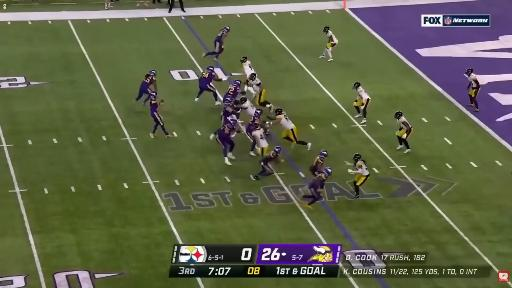Helmet: (323, 167, 333, 177), (148, 92, 158, 100), (319, 150, 328, 158), (354, 154, 363, 162), (465, 68, 474, 76), (254, 110, 264, 117), (230, 119, 238, 126), (254, 122, 261, 130), (274, 147, 281, 155), (395, 112, 403, 119), (353, 83, 362, 89), (250, 74, 257, 81), (240, 96, 247, 103), (241, 57, 249, 63), (276, 108, 284, 114), (323, 27, 330, 33), (234, 80, 241, 86), (150, 71, 157, 76), (207, 67, 215, 71), (224, 26, 230, 31)
Jersey: (149, 99, 164, 126), (308, 172, 328, 192), (252, 128, 269, 148), (277, 113, 294, 129), (310, 156, 324, 175), (224, 84, 240, 100), (199, 72, 216, 87), (260, 152, 278, 166), (217, 124, 234, 137), (355, 160, 369, 175), (249, 77, 262, 93), (141, 74, 155, 88), (242, 101, 255, 116), (357, 87, 370, 102), (243, 61, 255, 77), (398, 117, 411, 130), (215, 29, 227, 43), (326, 30, 338, 44), (467, 74, 477, 89), (150, 100, 159, 114), (250, 115, 260, 124)
Player: (268, 108, 311, 150), (241, 56, 273, 111), (303, 167, 331, 208), (195, 66, 222, 105), (246, 73, 273, 112), (221, 83, 241, 133), (150, 92, 171, 137), (348, 154, 369, 198), (253, 146, 281, 179), (216, 120, 236, 165), (203, 26, 230, 59), (222, 80, 241, 125), (246, 110, 262, 155), (395, 111, 412, 153), (136, 70, 156, 105), (353, 83, 370, 124), (249, 123, 268, 157), (465, 68, 480, 111), (245, 109, 266, 139), (320, 27, 337, 61), (310, 150, 327, 176), (223, 80, 241, 101), (241, 56, 255, 78), (240, 97, 255, 116), (232, 99, 242, 123), (250, 109, 262, 124)
